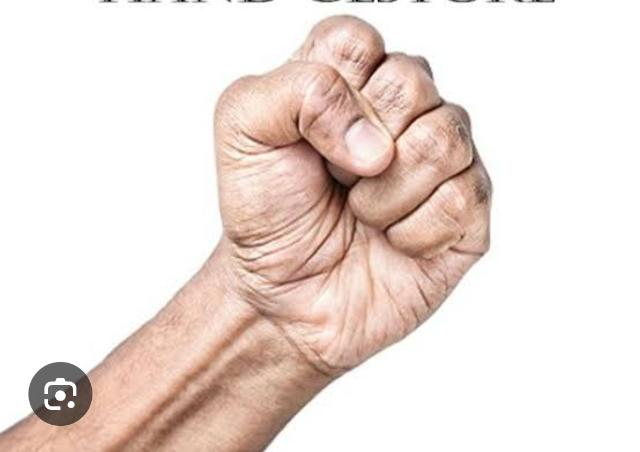mushti: (0, 15, 494, 452)
